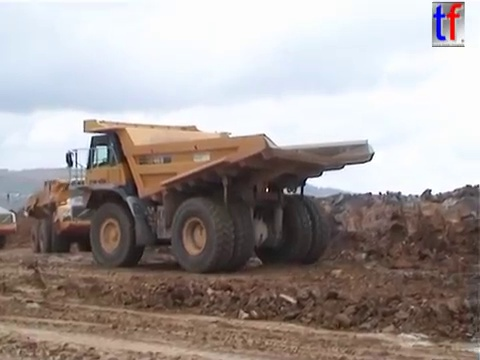truck: (62, 116, 378, 276), (22, 174, 133, 256), (1, 191, 19, 252)
